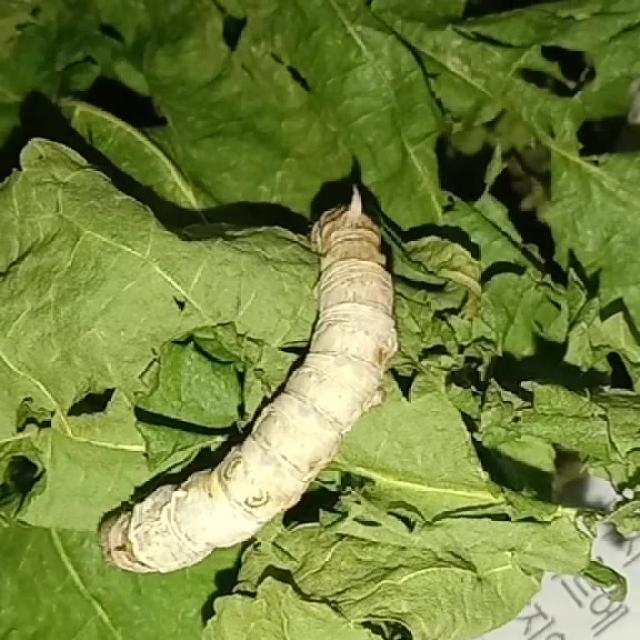Grasserie: (79, 184, 427, 586)
